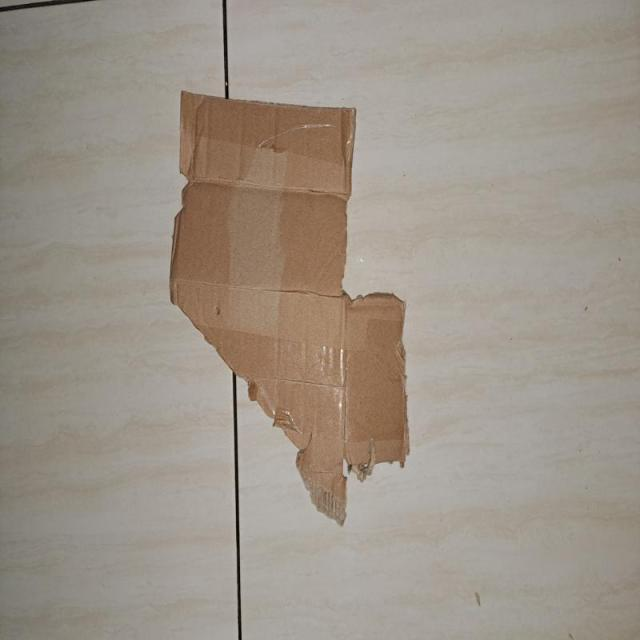Organik: (149, 46, 416, 542)
